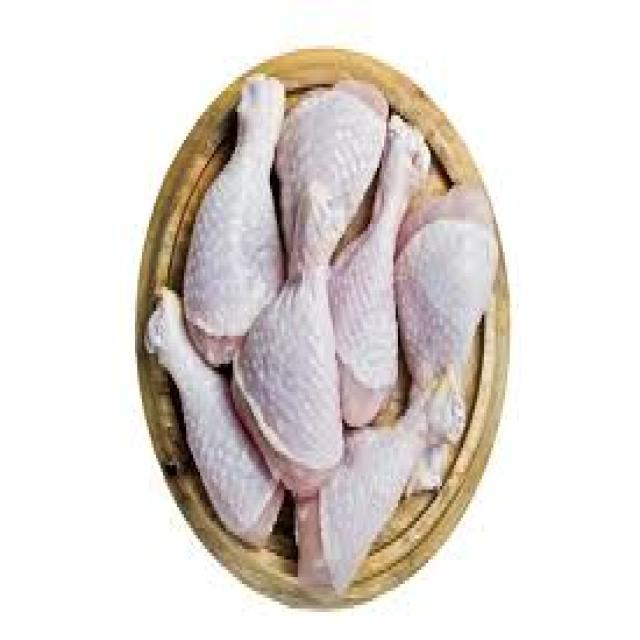leg: (292, 378, 462, 620), (146, 283, 286, 543), (399, 190, 487, 520), (248, 197, 348, 468), (193, 72, 287, 348), (330, 121, 410, 416), (272, 83, 376, 282)
